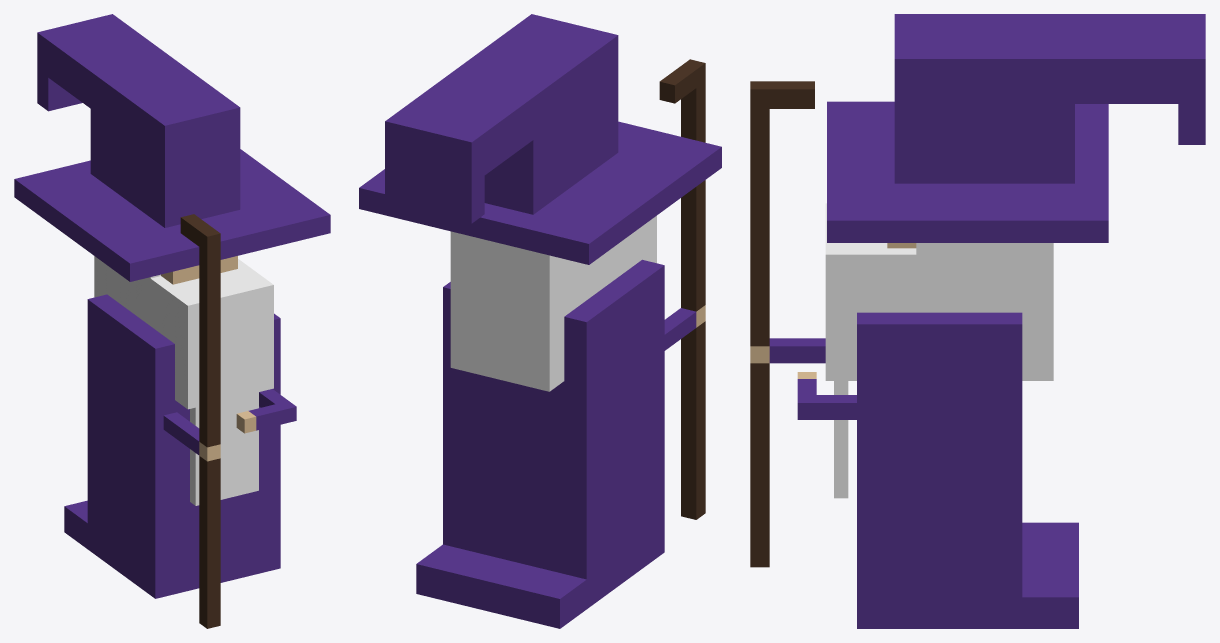
File: DesignWizardGüncel.fbx
3 views of the same model, side by side, from view 1: azimuth 30°, elevation 25°; view 2: azimuth 150°, elevation 25°; view 3: azimuth 270°, elevation 25° (orthographic). The views are drawn at different scales.
Visible parts, largest first — view 1: Plane.005; view 2: Plane.005; view 3: Plane.005.
Part boxes in pixels (x1,y1,x2,y2): Plane.005: [14, 14, 330, 628]; Plane.005: [359, 14, 721, 628]; Plane.005: [750, 14, 1205, 628].
Size of the model in its own units: 127 by 276 by 205.
